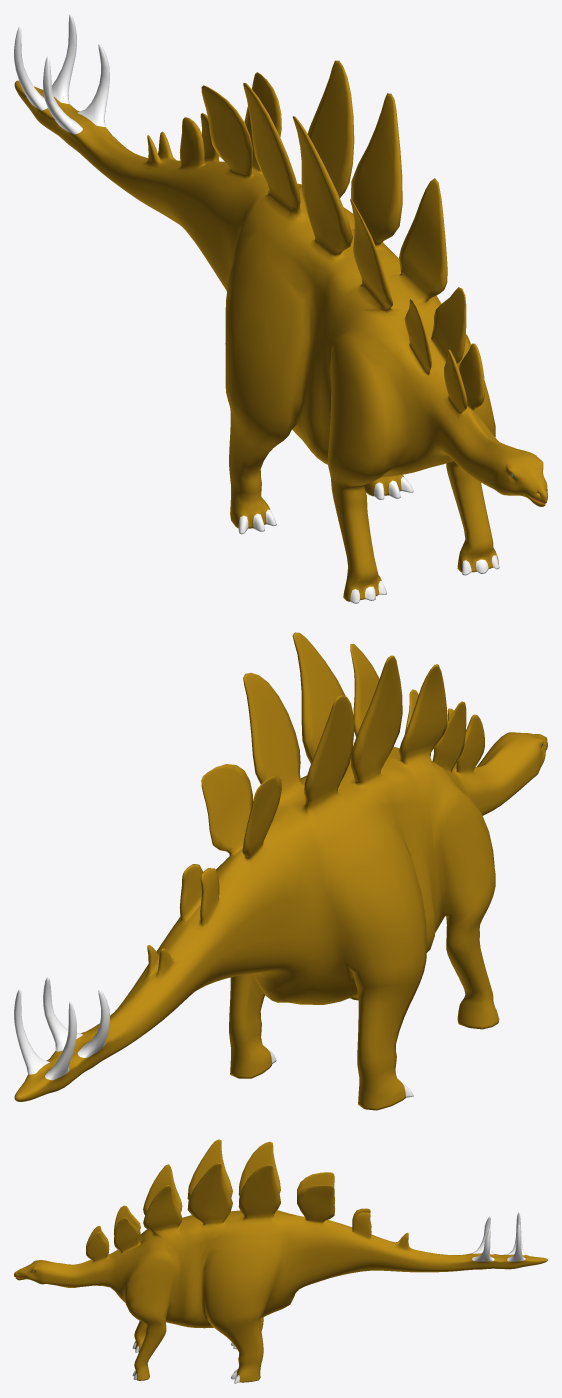
The model's file is estego.obj.
3 renders of one model, top to bottom at view 1: azimuth 30°, elevation 25°; view 2: azimuth 150°, elevation 25°; view 3: azimuth 270°, elevation 25°, orthographic. The views are drawn at different scales.
Visible parts, largest first — view 1: stegos_Cube.026; view 2: stegos_Cube.026; view 3: stegos_Cube.026.
Boxes of the visible parts, x1,y1,x2,y2 form: stegos_Cube.026: (14,14,547,603); stegos_Cube.026: (14,632,547,1110); stegos_Cube.026: (14,1139,547,1383).
Bounding box in the file's own units: 7.05 × 15.76 × 36.05.
